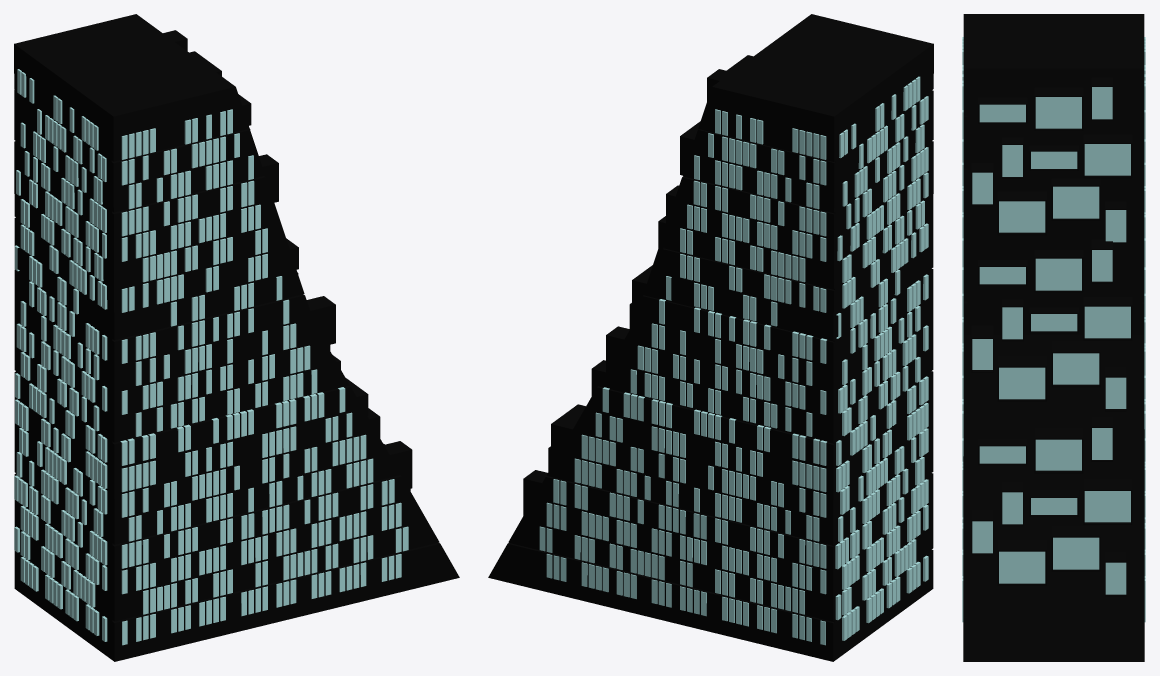
Rendered from building petite fenetres noir.fbx.
The picture shows the model from 3 angles, left to right: view 1: azimuth 30°, elevation 25°; view 2: azimuth 150°, elevation 25°; view 3: azimuth 270°, elevation 25°; orthographic projection. The views are drawn at different scales.
Visible parts, largest first — view 1: Cube, Cube.001, Cube.003, Cube.004; view 2: Cube, Cube.002, Cube.003, Cube.004; view 3: Cube, Cube.027, Cube.004, Cube.001, Cube.002.
Boxes of the visible parts, x1=… form: Cube: x1=14, y1=14, x2=459, y2=661; Cube.001: x1=120, y1=109, x2=408, y2=645; Cube.003: x1=14, y1=69, x2=107, y2=641; Cube.004: x1=163, y1=30, x2=412, y2=490; Cube: x1=488, y1=14, x2=933, y2=661; Cube.002: x1=539, y1=109, x2=826, y2=645; Cube.003: x1=835, y1=76, x2=928, y2=640; Cube.004: x1=523, y1=55, x2=753, y2=515; Cube: x1=963, y1=14, x2=1144, y2=661; Cube.027: x1=972, y1=87, x2=1130, y2=594; Cube.004: x1=971, y1=77, x2=1132, y2=596; Cube.001: x1=962, y1=37, x2=963, y2=622; Cube.002: x1=1144, y1=37, x2=1145, y2=622.
Size of the model in its own units: 1864 by 2793 by 938.
